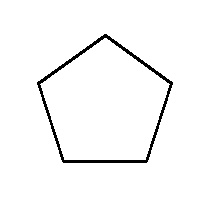line_segment: (36, 33, 173, 164)
